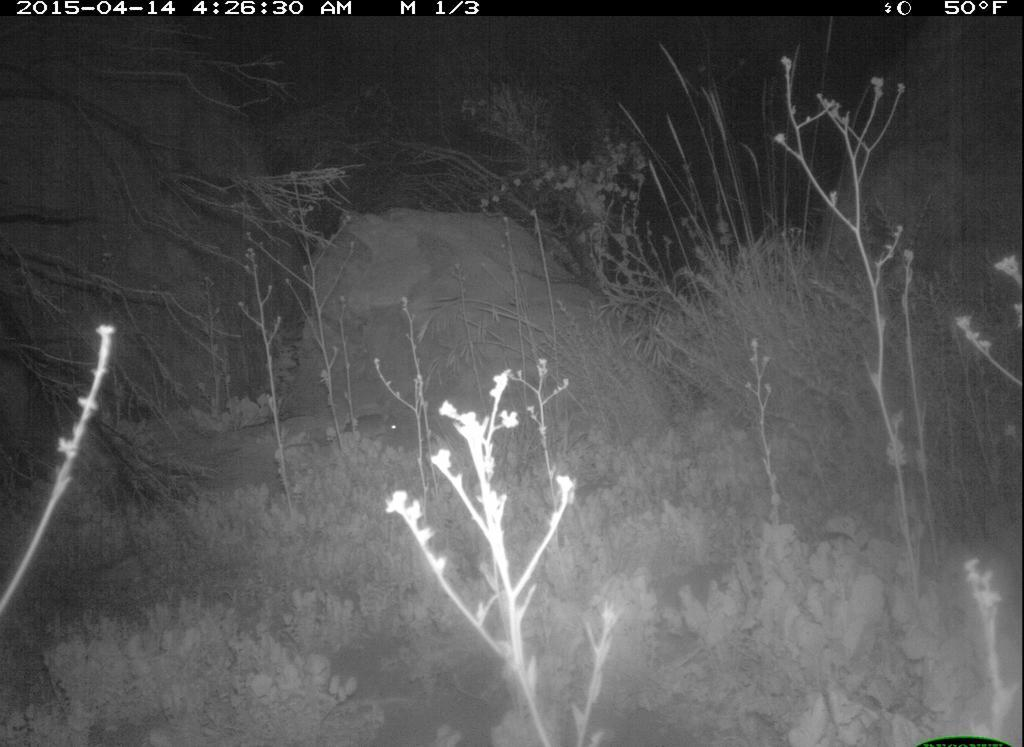rabbit: (339, 395, 406, 450)
